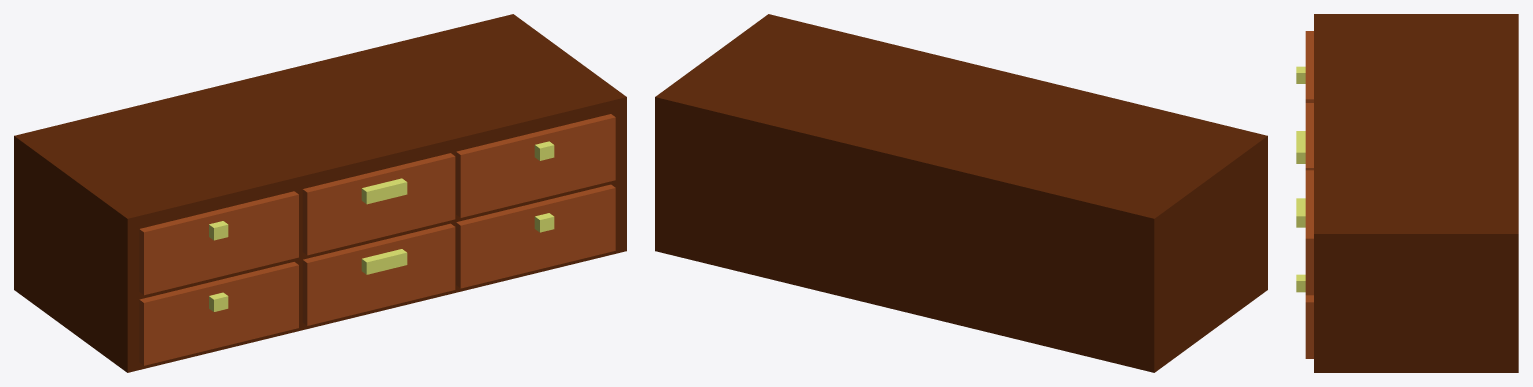
The model's file is Cabinet 01.FBX.
The picture shows the model from 3 angles, left to right: view 1: azimuth 30°, elevation 25°; view 2: azimuth 150°, elevation 25°; view 3: azimuth 270°, elevation 25°; orthographic projection. The views are drawn at different scales.
Visible parts, largest first — view 1: Cabinet 01; view 2: Cabinet 01; view 3: Cabinet 01.
Part boxes in pixels (x1,y1,x2,y2): Cabinet 01: (14, 14, 626, 372); Cabinet 01: (655, 14, 1267, 372); Cabinet 01: (1296, 14, 1518, 372).
Bounding box in the file's own units: 212 × 62.6 × 90.71.
